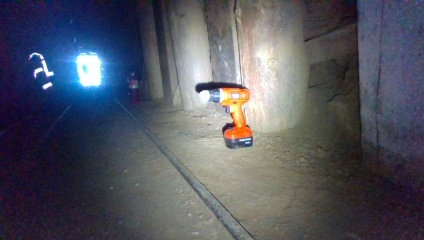drill: (194, 84, 255, 148)
fire_extinguisher: (123, 68, 142, 103)
manikin: (27, 36, 114, 108)
